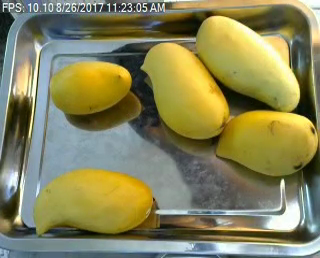Mango: (195, 14, 301, 112), (144, 40, 229, 140), (34, 167, 152, 233), (217, 111, 318, 175), (50, 59, 131, 115)
